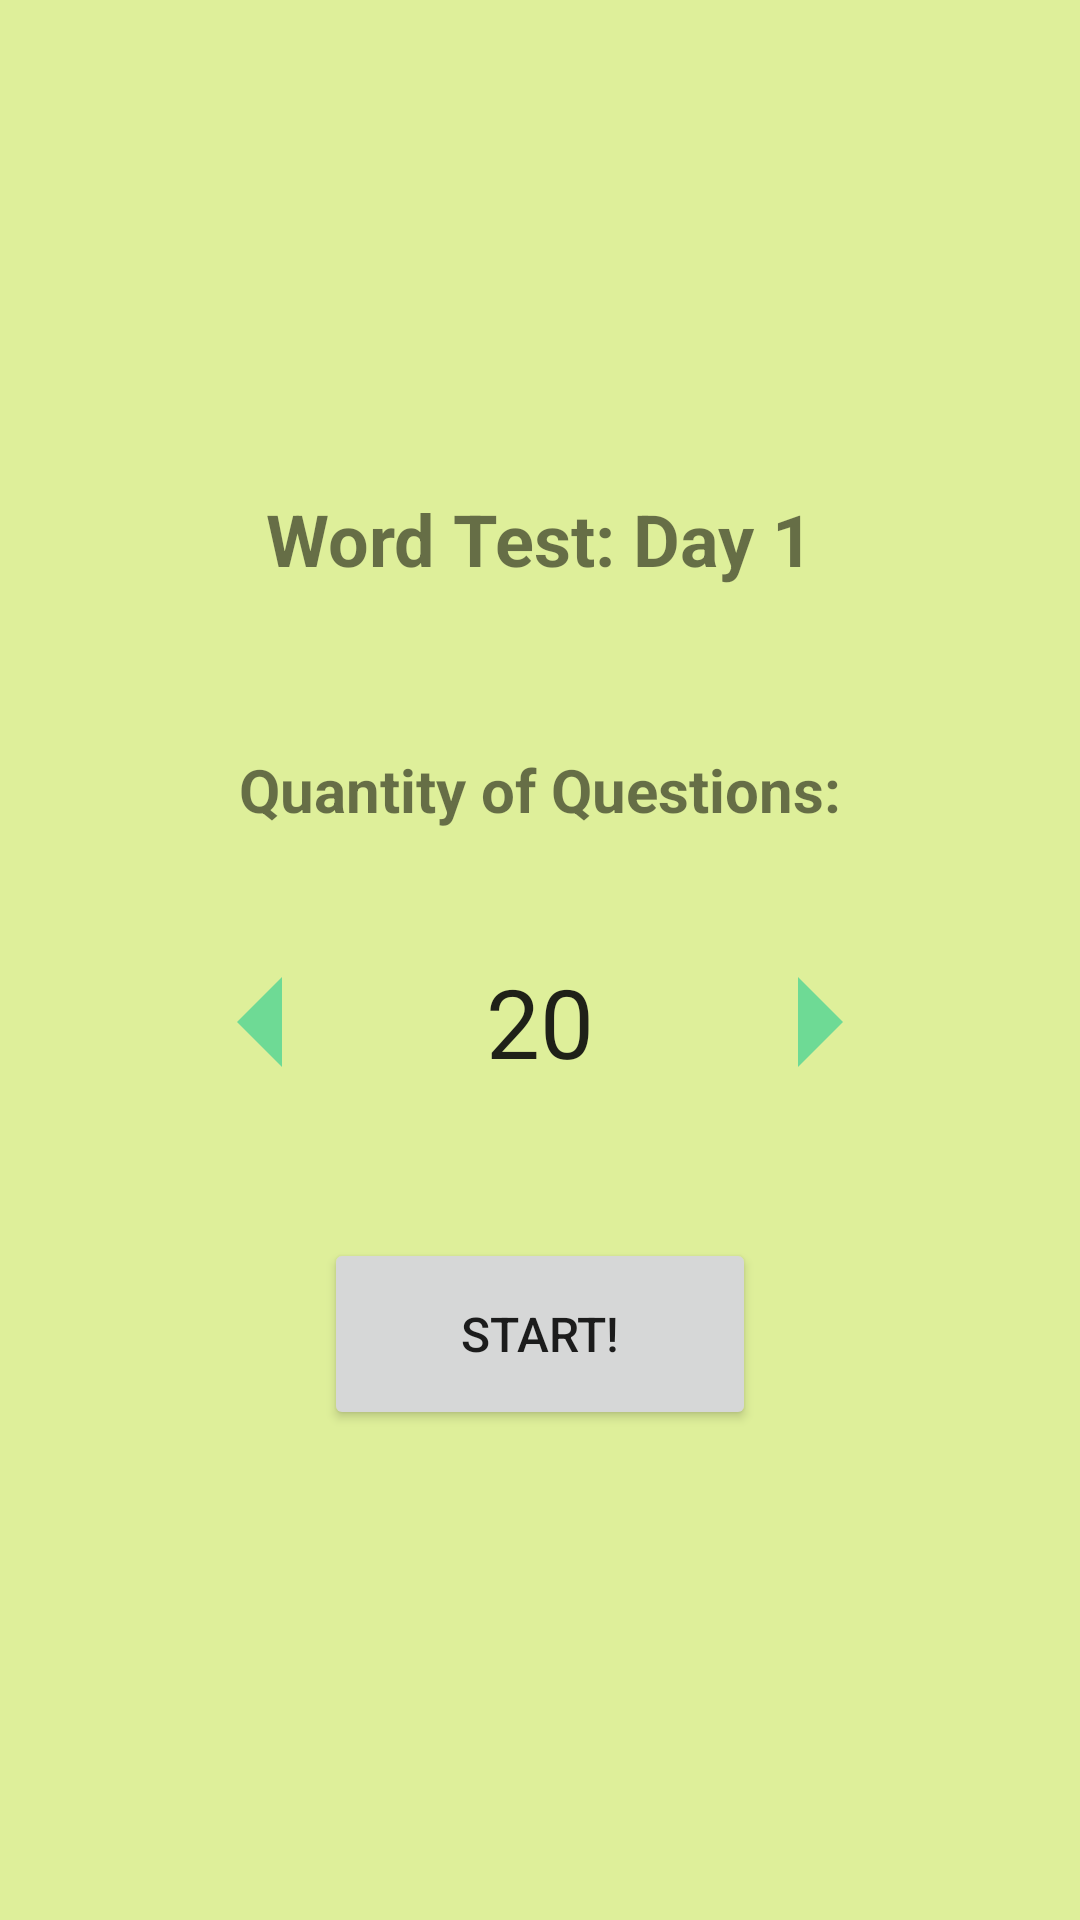

Screen size 1080×1920. Icon name, then its box in pixels as box(x1, y1, x2, y2):
arrow left: box(237, 977, 282, 1067)
arrow right: box(798, 977, 843, 1067)
